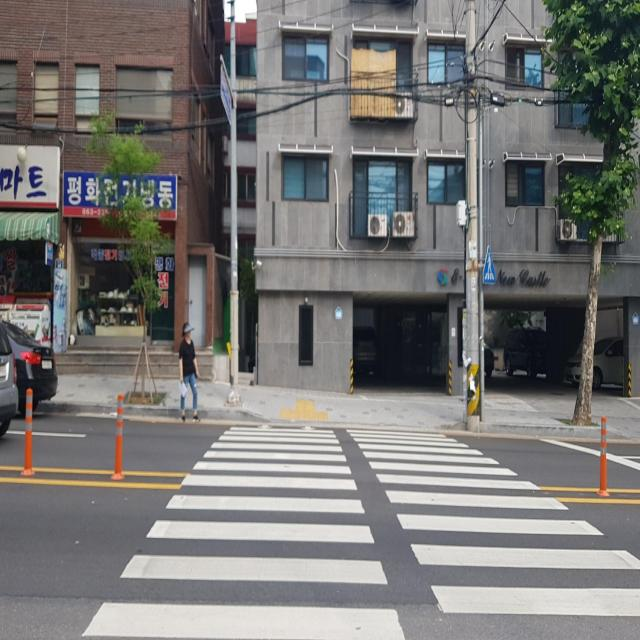횡단보도: (80, 421, 640, 639)
